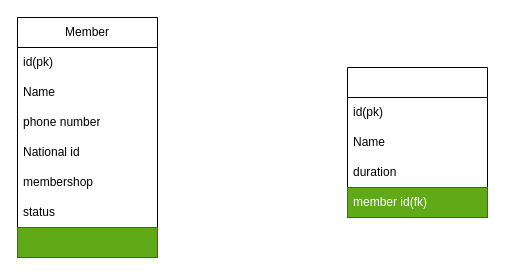
Image size: 505x275. Some labels were removed from this diagram. Here are the shapes that lost their labels. From the top down, the box of each, then its label:
(346, 66, 488, 218): trainer
(16, 226, 158, 258): trainer id(fk)
